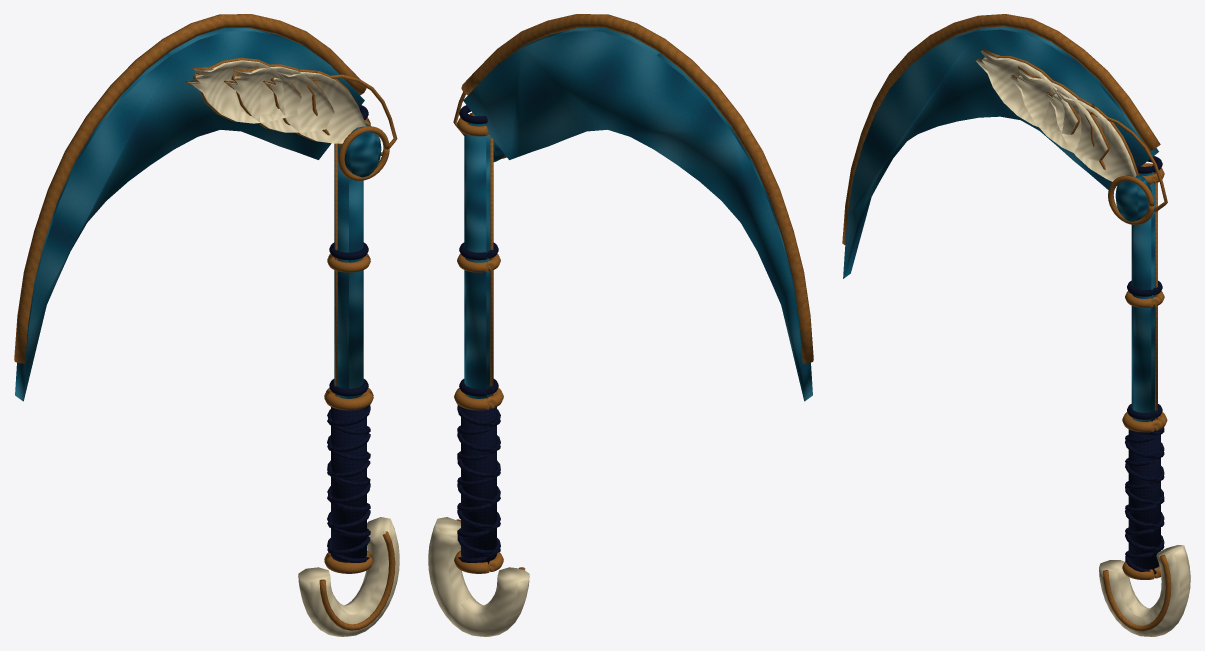
Rendered from damaged.glb.
3 renders of one model, left to right at view 1: azimuth 30°, elevation 25°; view 2: azimuth 150°, elevation 25°; view 3: azimuth 330°, elevation 25°, orthographic. The views are drawn at different scales.
Visible parts, largest first — view 1: Crescent_water_glass_edge, Aged_gold_crescent_spine, Reservoir_shaft, Hooked_shell_pommel, Grip_core, Blade_scalloped_nacre_3, Blade_scalloped_nacre_2, Blade_scalloped_nacre_1, Cross_woven_cord, Cross_woven_cord.001, Blade_guard_heart, Pommel_lip (+5 smaller); view 2: Crescent_water_glass_edge, Aged_gold_crescent_spine, Reservoir_shaft, Hooked_shell_pommel, Grip_core, Cross_woven_cord.001, Cross_woven_cord, Shaft_gold_spline.001, Grip_collar.001, Grip_collar; view 3: Crescent_water_glass_edge, Aged_gold_crescent_spine, Reservoir_shaft, Hooked_shell_pommel, Grip_core, Blade_scalloped_nacre_3, Blade_scalloped_nacre_2, Blade_scalloped_nacre_1, Cross_woven_cord.001, Cross_woven_cord, Blade_guard_heart, Pommel_lip (+4 smaller).
Boxes of the visible parts, box(x1,y1,x2,y2) form: Crescent_water_glass_edge: box(15, 27, 364, 401); Aged_gold_crescent_spine: box(14, 14, 366, 363); Reservoir_shaft: box(334, 144, 363, 398); Hooked_shell_pommel: box(298, 517, 399, 636); Grip_core: box(331, 407, 366, 562); Blade_scalloped_nacre_3: box(188, 60, 301, 123); Blade_scalloped_nacre_2: box(226, 66, 334, 132); Blade_scalloped_nacre_1: box(265, 72, 366, 143); Cross_woven_cord: box(327, 405, 370, 562); Cross_woven_cord.001: box(327, 406, 370, 554); Blade_guard_heart: box(344, 123, 381, 177); Pommel_lip: box(319, 531, 395, 630); Crescent_water_glass_edge: box(463, 27, 812, 401); Aged_gold_crescent_spine: box(461, 14, 813, 363); Reservoir_shaft: box(464, 122, 493, 398); Hooked_shell_pommel: box(428, 517, 529, 636); Grip_core: box(461, 407, 496, 564); Cross_woven_cord.001: box(457, 404, 500, 562); Cross_woven_cord: box(457, 406, 500, 554); Shaft_gold_spline.001: box(490, 136, 493, 396); Grip_collar.001: box(454, 388, 503, 410); Grip_collar: box(454, 550, 503, 573); Crescent_water_glass_edge: box(843, 26, 1158, 278); Aged_gold_crescent_spine: box(842, 14, 1160, 244); Reservoir_shaft: box(1131, 171, 1154, 421); Hooked_shell_pommel: box(1099, 545, 1190, 636); Grip_core: box(1128, 429, 1160, 569); Blade_scalloped_nacre_3: box(976, 50, 1077, 135); Blade_scalloped_nacre_2: box(1010, 68, 1107, 161); Blade_scalloped_nacre_1: box(1045, 88, 1136, 181); Cross_woven_cord.001: box(1125, 427, 1164, 558); Cross_woven_cord: box(1125, 430, 1164, 574); Blade_guard_heart: box(1115, 174, 1151, 221); Pommel_lip: box(1103, 555, 1171, 631).
Bounding box in the file's own units: 0.6626 × 1.08 × 0.0974.
Materials: 4 (4 with a texture image).
